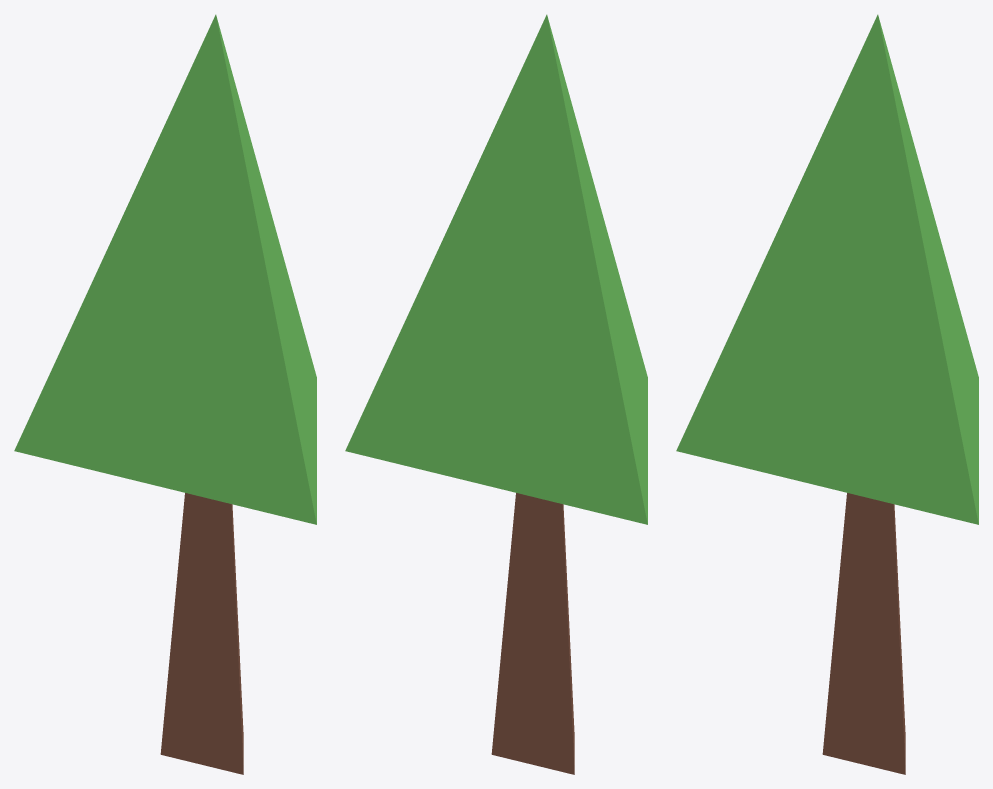
Rendered from PineObj.fbx.
3 views of the same model, side by side, from view 1: azimuth 30°, elevation 25°; view 2: azimuth 150°, elevation 25°; view 3: azimuth 270°, elevation 25° (orthographic).
Visible parts, largest first — view 1: Pine; view 2: Pine; view 3: Pine.
Part boxes in pixels (left/top/right/bottom): Pine: left=14, top=14, right=316, bottom=774; Pine: left=345, top=14, right=647, bottom=774; Pine: left=676, top=14, right=978, bottom=774.
Bounding box in the file's own units: 551 × 1289 × 478.
